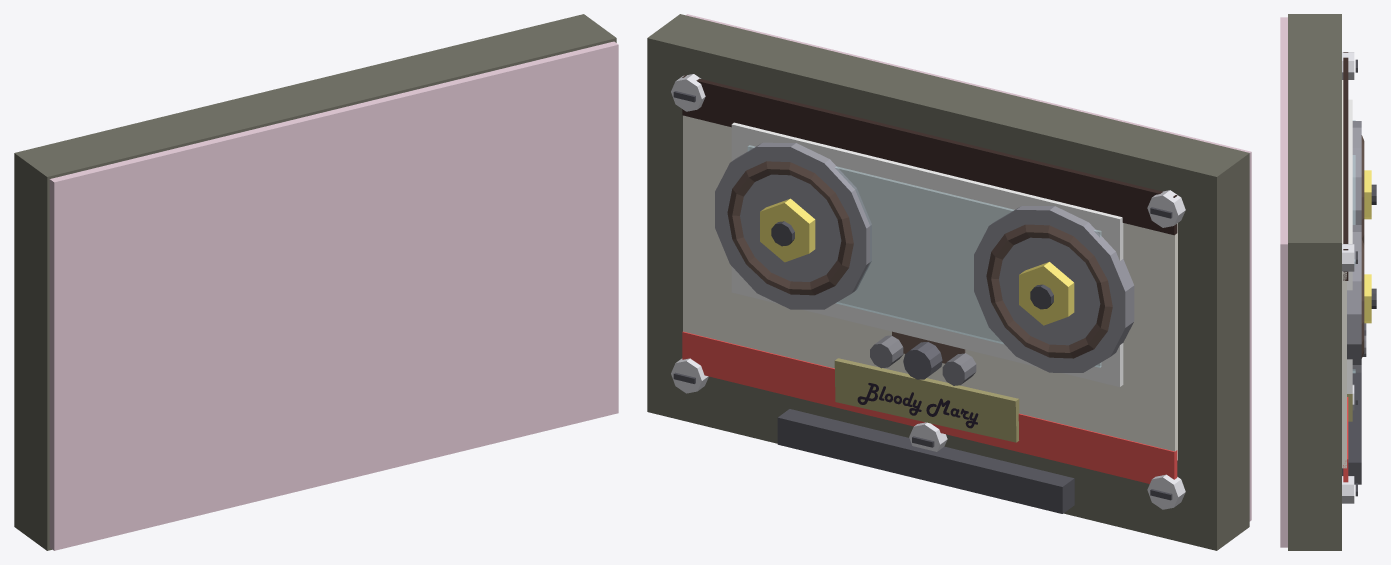
Rendered from cassetteBloodyMary.glb.
3 views of the same model, side by side, from view 1: azimuth 30°, elevation 25°; view 2: azimuth 150°, elevation 25°; view 3: azimuth 270°, elevation 25° (orthographic). The views are drawn at different scales.
Visible parts, largest first — view 1: ShellBack, Shell; view 2: Shell, Label, WindowFrame, WindowGlass, StripeTop, Reel_L, Reel_R, StripeBot, TapeOpening, Plane, Tape_L, Tape_R (+11 smaller); view 3: Shell, ShellBack, Reel_R, Label, TapeOpening, StripeTop, WindowFrame, Reel_L, Tape_R, Tape_L, Hub_L, Hub_R (+6 smaller).
Part boxes in pixels (x1,y1,x2,y2): ShellBack: [49, 41, 618, 550]; Shell: [14, 14, 616, 550]; Shell: [647, 14, 1249, 550]; Label: [683, 115, 1177, 460]; WindowFrame: [731, 122, 1123, 386]; WindowGlass: [747, 145, 1101, 367]; StripeTop: [682, 75, 1177, 235]; Reel_L: [974, 206, 1134, 372]; Reel_R: [715, 142, 871, 309]; StripeBot: [682, 331, 1177, 483]; TapeOpening: [777, 409, 1074, 513]; Plane: [834, 358, 1019, 442]; Tape_L: [986, 224, 1112, 358]; Tape_R: [727, 161, 853, 295]; Shell: [1288, 14, 1341, 550]; ShellBack: [1280, 17, 1287, 547]; Reel_R: [1347, 225, 1361, 372]; Label: [1342, 80, 1346, 468]; TapeOpening: [1342, 372, 1361, 484]; StripeTop: [1343, 52, 1348, 280]; WindowFrame: [1347, 99, 1352, 393]; Reel_L: [1352, 121, 1361, 224]; Tape_R: [1361, 239, 1364, 358]; Tape_L: [1361, 135, 1364, 244]; Hub_L: [1364, 170, 1371, 219]; Hub_R: [1364, 274, 1371, 323].
Size of the model in its own units: 2.2 by 1.38 by 0.39.
